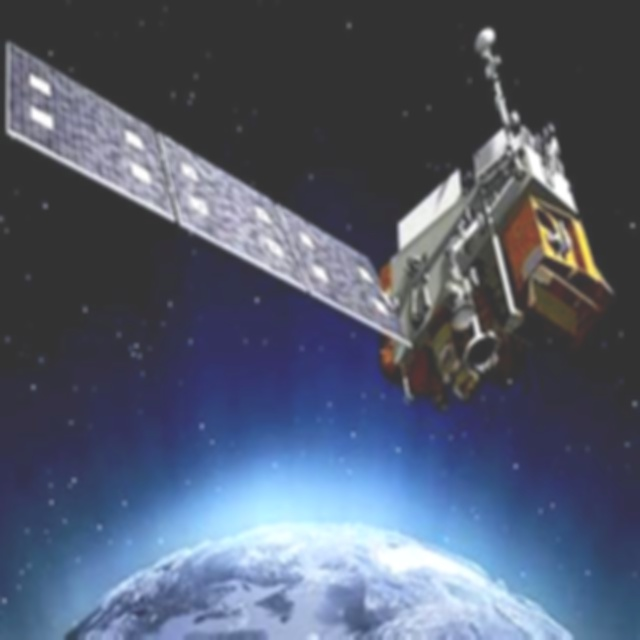satellite: (0, 17, 618, 431)
